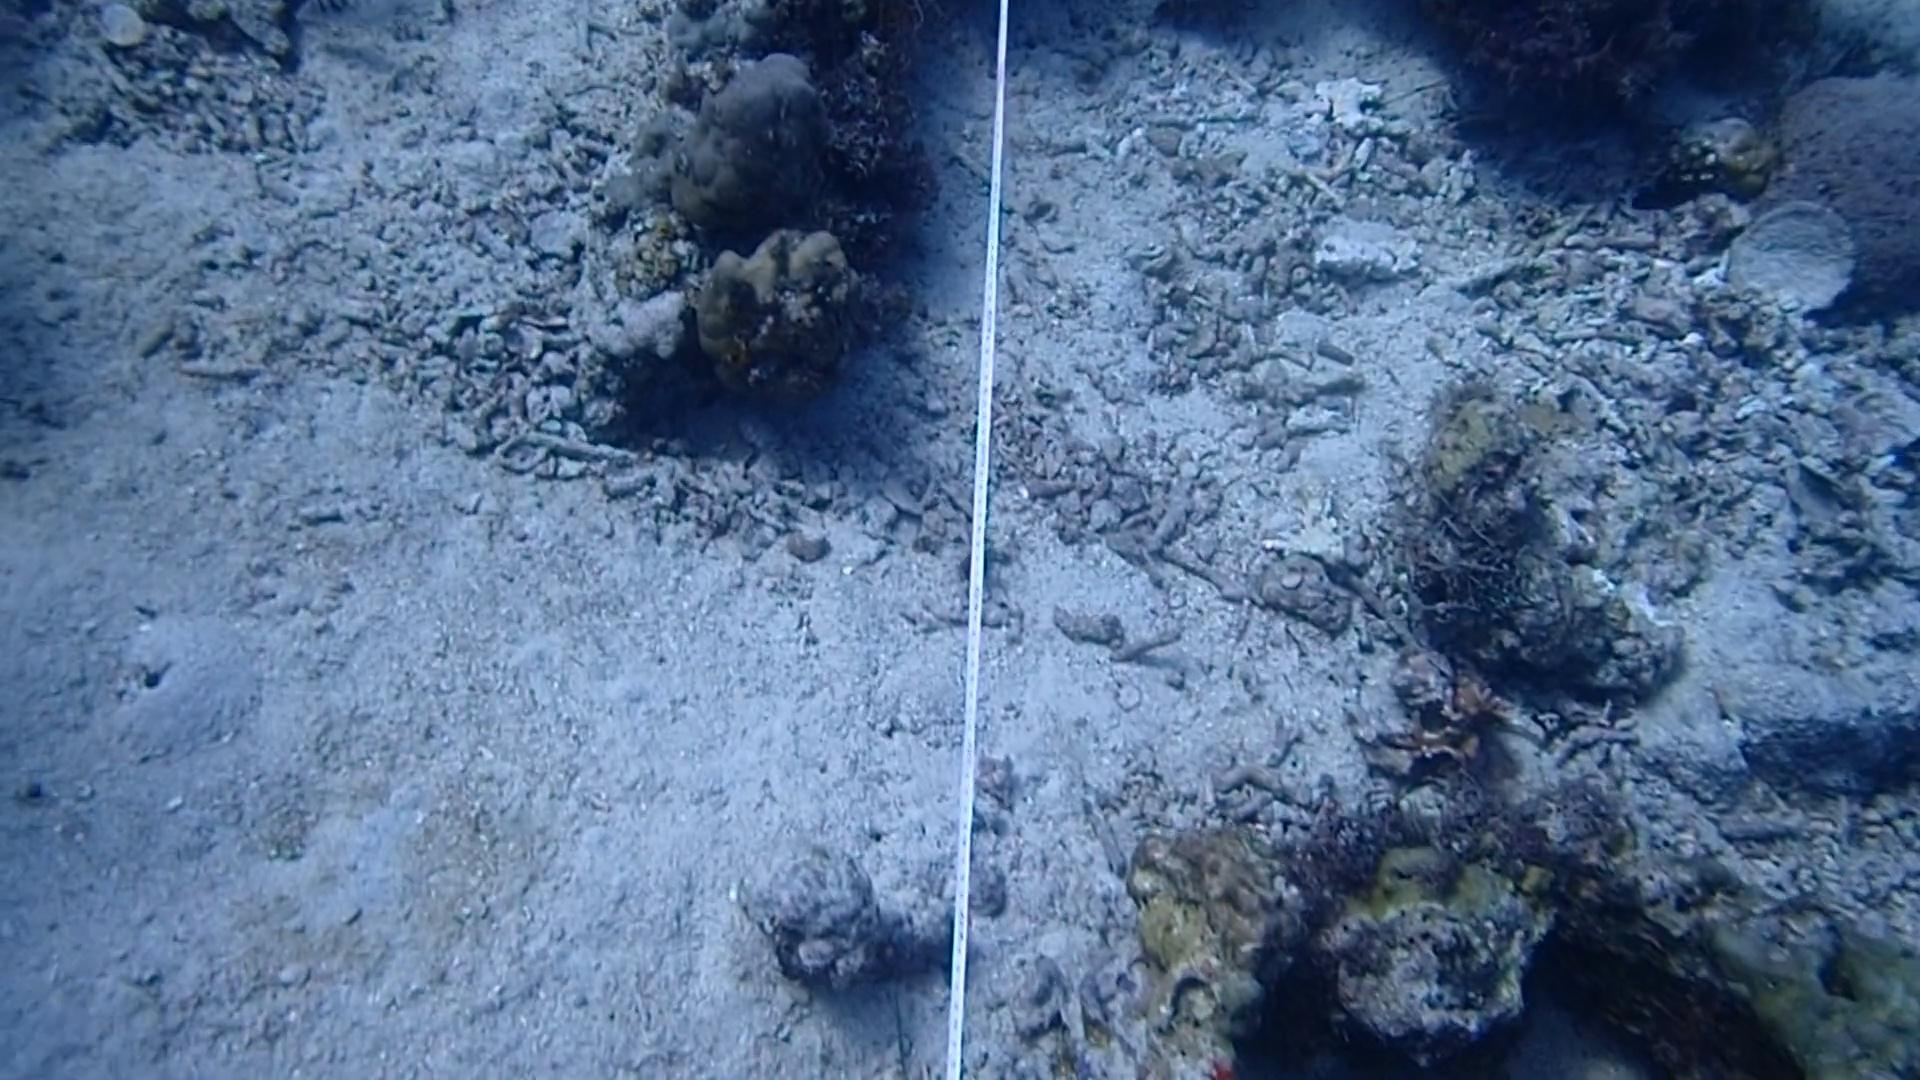Dark Fish: (1618, 165, 1721, 227)
